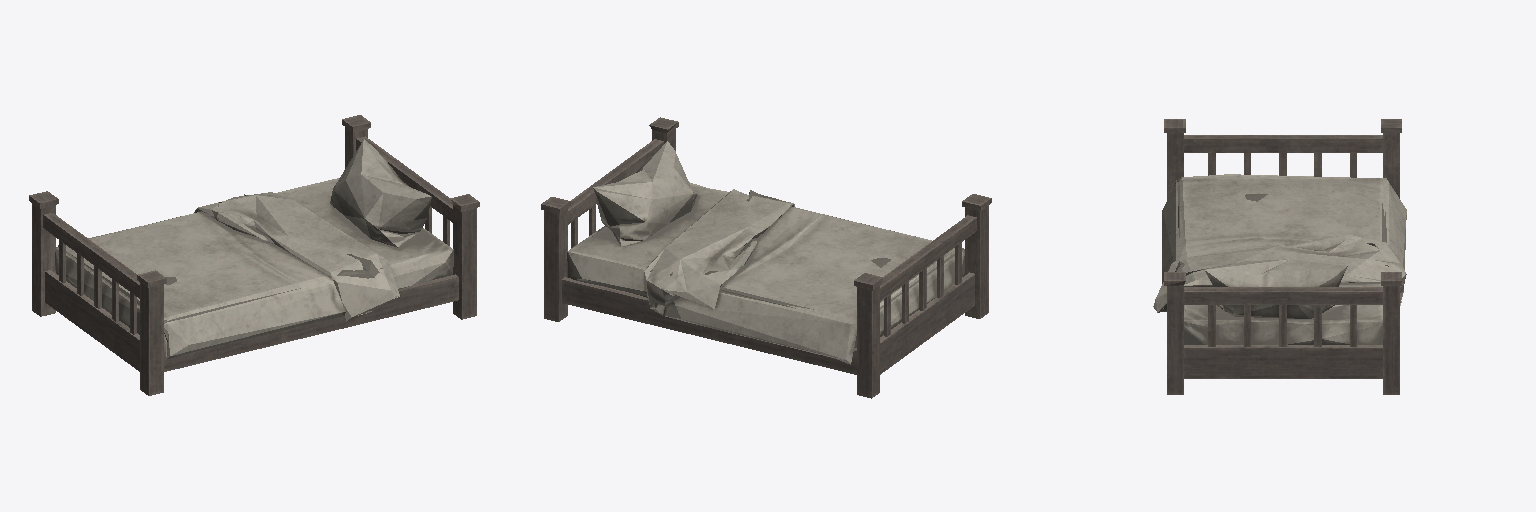
3 views of the same model, side by side, from view 1: azimuth 30°, elevation 25°; view 2: azimuth 150°, elevation 25°; view 3: azimuth 270°, elevation 25° (orthographic).
Bounding box in the file's own units: 0.95 × 0.3213 × 0.6294.
Materials: 1 (1 with a texture image).